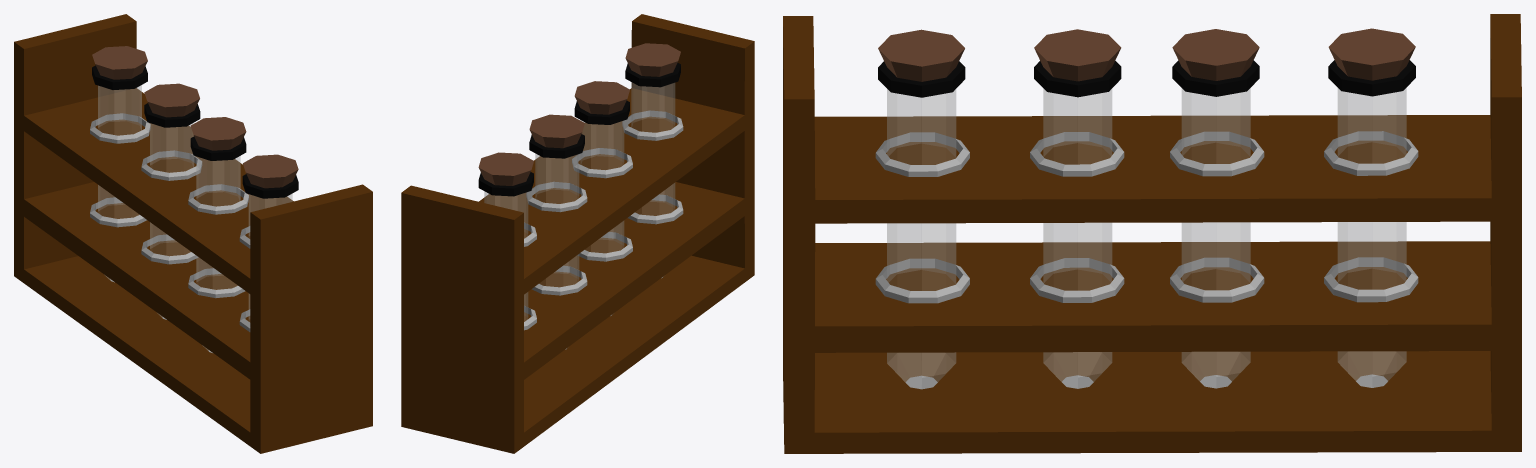
The model's file is Bandeja_03.fbx.
3 renders of one model, left to right at view 1: azimuth 30°, elevation 25°; view 2: azimuth 150°, elevation 25°; view 3: azimuth 270°, elevation 25°, orthographic. The views are drawn at different scales.
Visible parts, largest first — view 1: polySurface44; view 2: polySurface44; view 3: polySurface44.
Boxes of the visible parts, box(x1,y1,x2,y2) form: polySurface44: box(14, 14, 372, 453); polySurface44: box(401, 14, 754, 453); polySurface44: box(783, 14, 1521, 453).
Bounding box in the file's own units: 0.2689 × 0.5343 × 0.9837.
